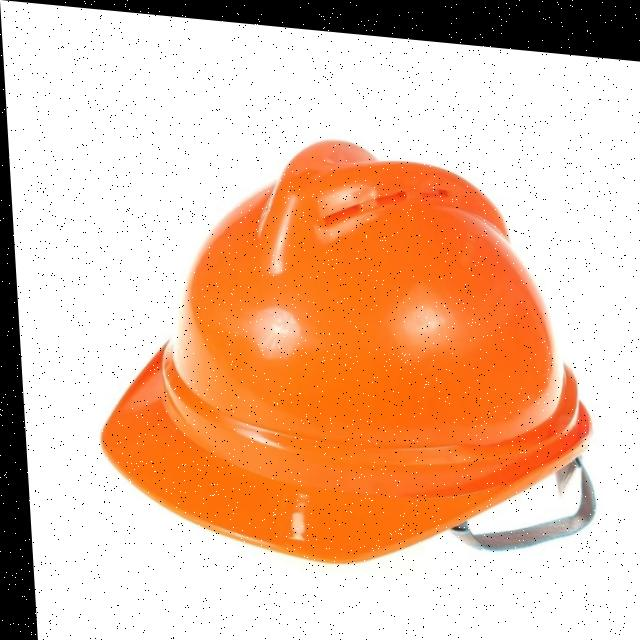illegal_helmet: (74, 102, 604, 583)
